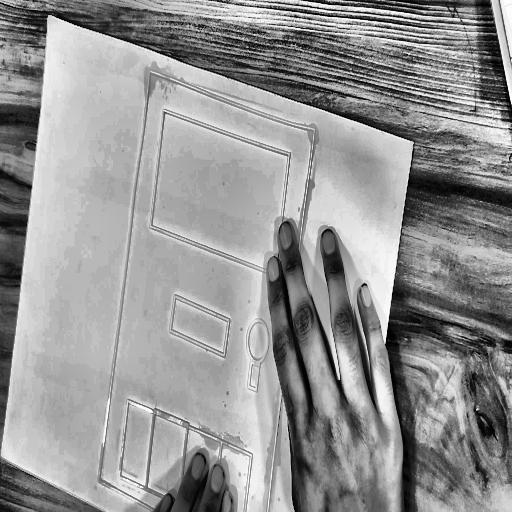bottom_left: (0, 453, 3, 459)
door: (90, 61, 328, 512)
top_left: (46, 9, 54, 23)
top_right: (411, 137, 418, 149)
